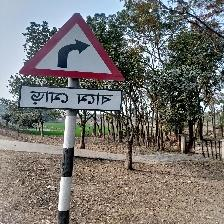Left-Turn: (17, 12, 127, 115)
